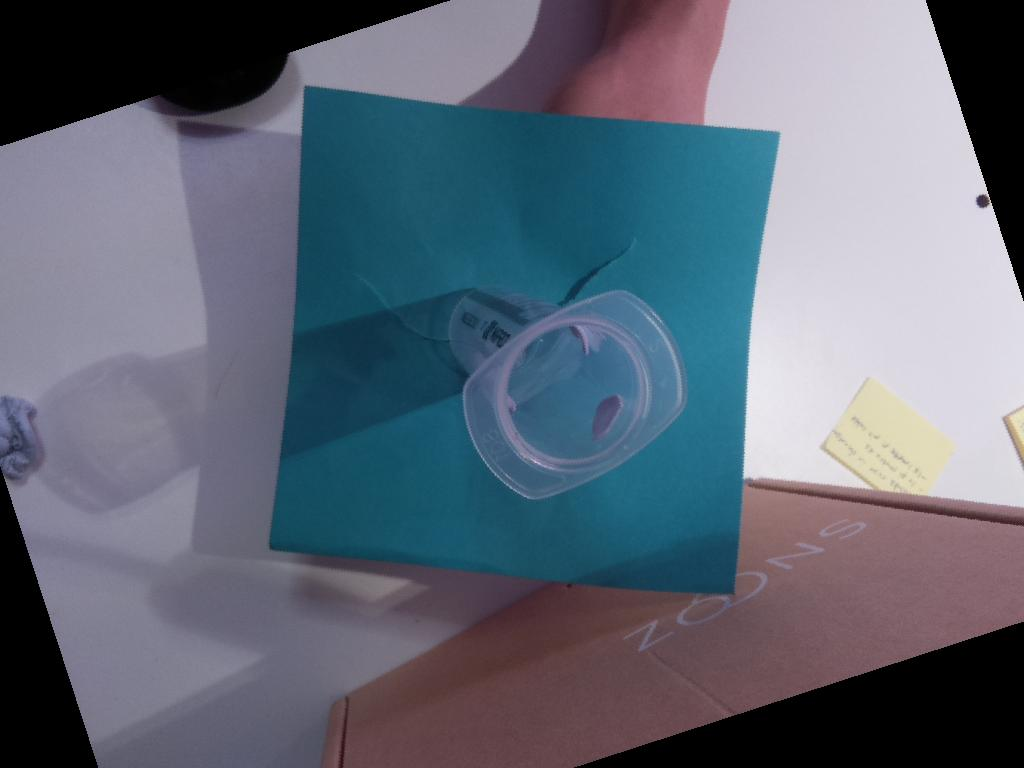dirty: (460, 289, 689, 500)
